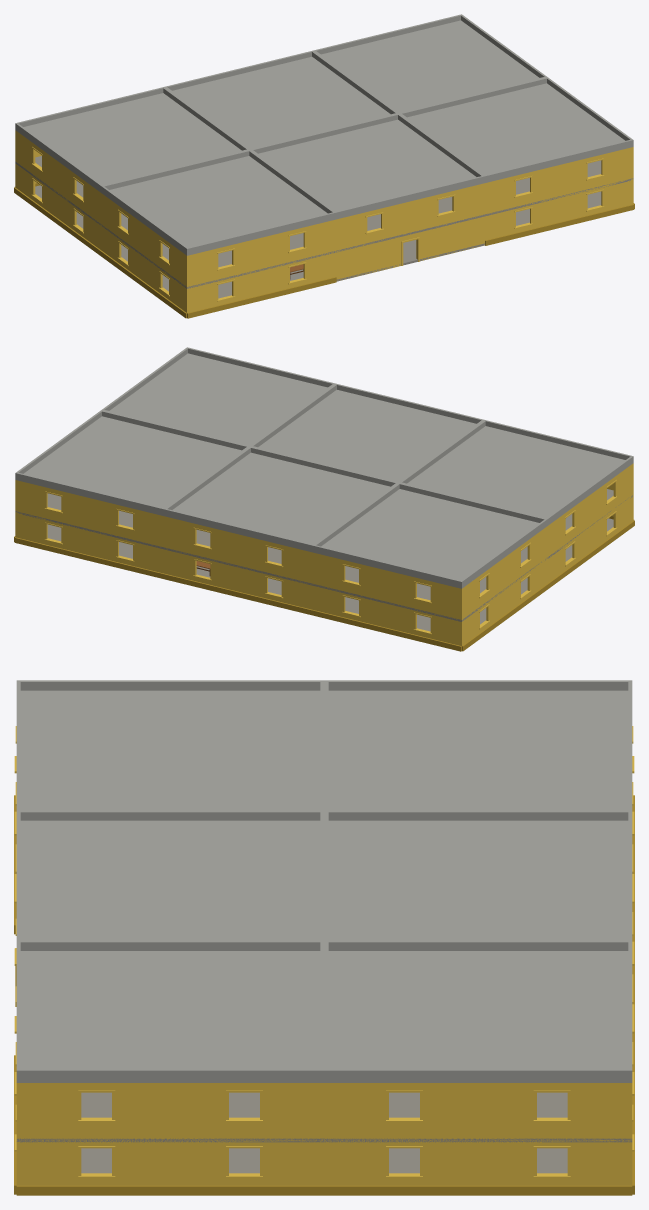
File: school_yellow.glb
3 renders of one model, top to bottom at view 1: azimuth 30°, elevation 25°; view 2: azimuth 150°, elevation 25°; view 3: azimuth 270°, elevation 25°, orthographic. The views are drawn at different scales.
Visible parts, largest first — view 1: school_yellow; view 2: school_yellow; view 3: school_yellow.
Boxes of the visible parts, x1,y1,x2,y2 form: school_yellow: [14, 14, 634, 318]; school_yellow: [14, 347, 634, 651]; school_yellow: [14, 680, 634, 1195].
Size of the model in its own units: 45.26 by 6.66 by 30.26.
